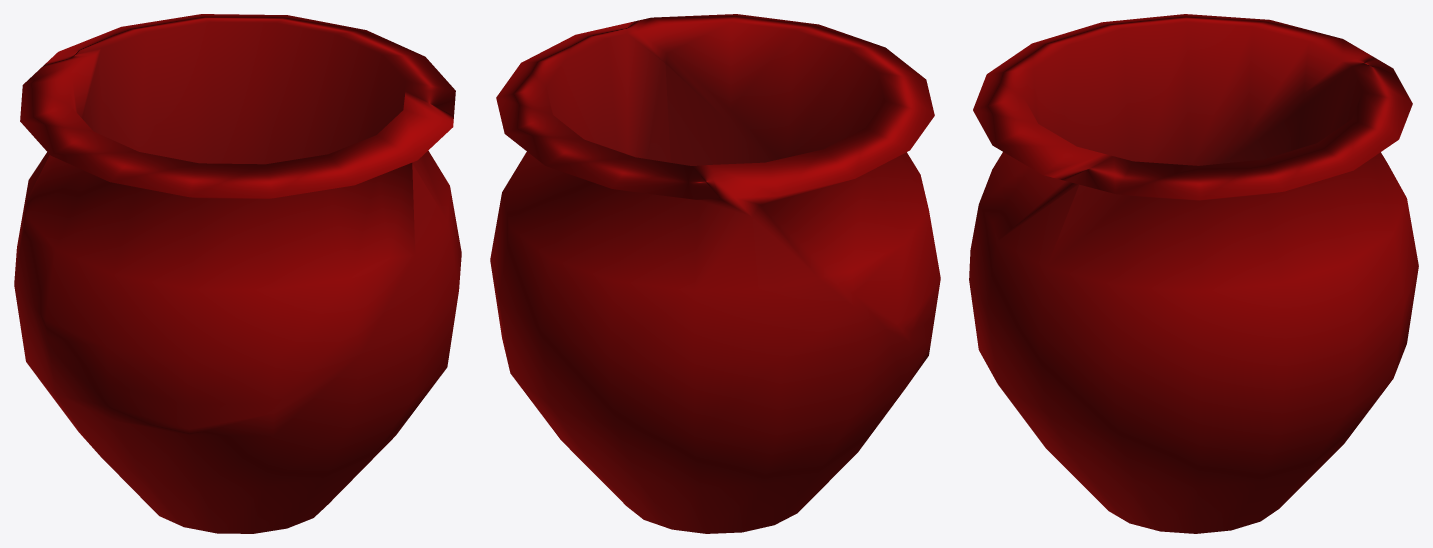
The model's file is CeramicPot002.glb.
The picture shows the model from 3 angles, left to right: view 1: azimuth 30°, elevation 25°; view 2: azimuth 150°, elevation 25°; view 3: azimuth 270°, elevation 25°; orthographic projection.
Parts seen in each view (by area): view 1: CeramicPot002; view 2: CeramicPot002; view 3: CeramicPot002.
Boxes of the visible parts, box(x1,y1,x2,y2) form: CeramicPot002: box(14, 14, 461, 533); CeramicPot002: box(490, 14, 940, 533); CeramicPot002: box(969, 14, 1418, 533).
Bounding box in the file's own units: 2.09 × 2.04 × 2.08.
